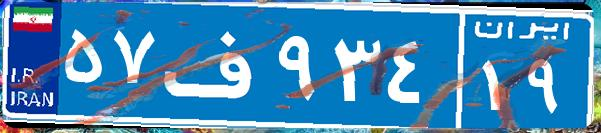1: (475, 38, 525, 113)
3: (330, 28, 385, 110)
4: (385, 28, 445, 110)
5: (57, 26, 110, 107)
7: (110, 28, 158, 105)
9: (273, 28, 330, 110), (525, 38, 570, 115)
ف: (158, 15, 273, 115)
